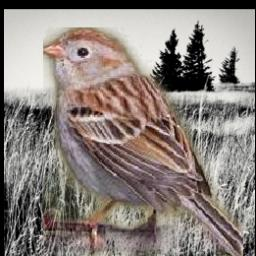Sparrow: (43, 28, 243, 256)
